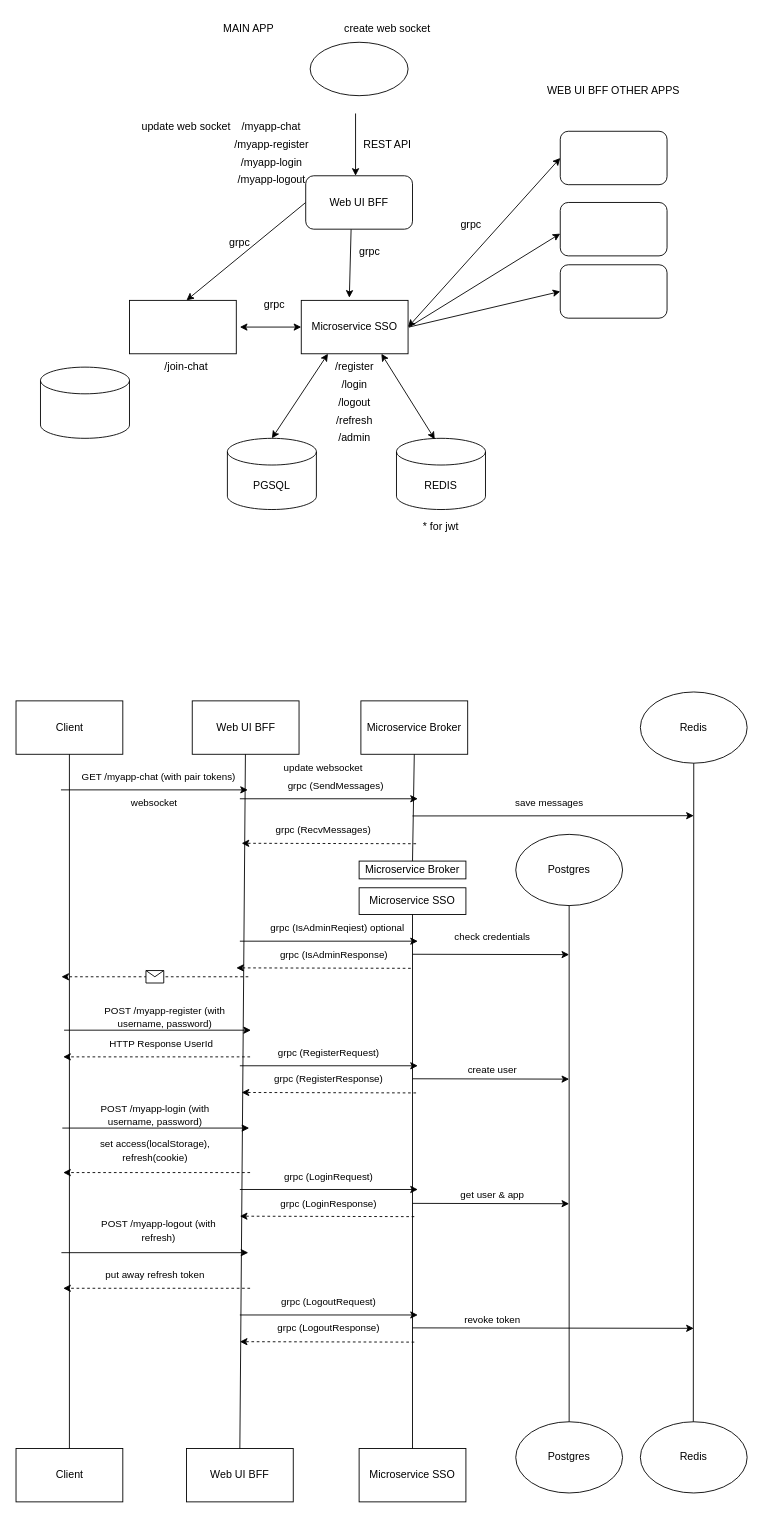
Image size: 763x1517. Some labels were removed from this diagram. Here are the shapes that lost their labels. From the top down, the centre of each, then its label:
At point 358,68: "Web UI".
At point 182,326: "Microservice custom broker with ambedded storage".
At point 84,402: "Custom NOSQL".
